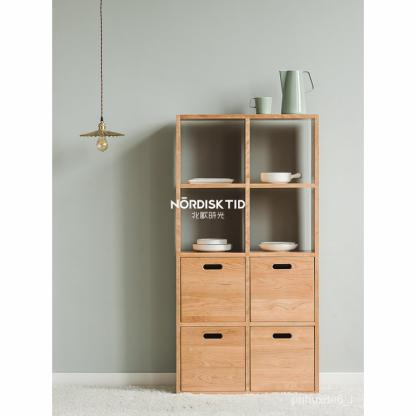lamp: (174, 112, 321, 398)
